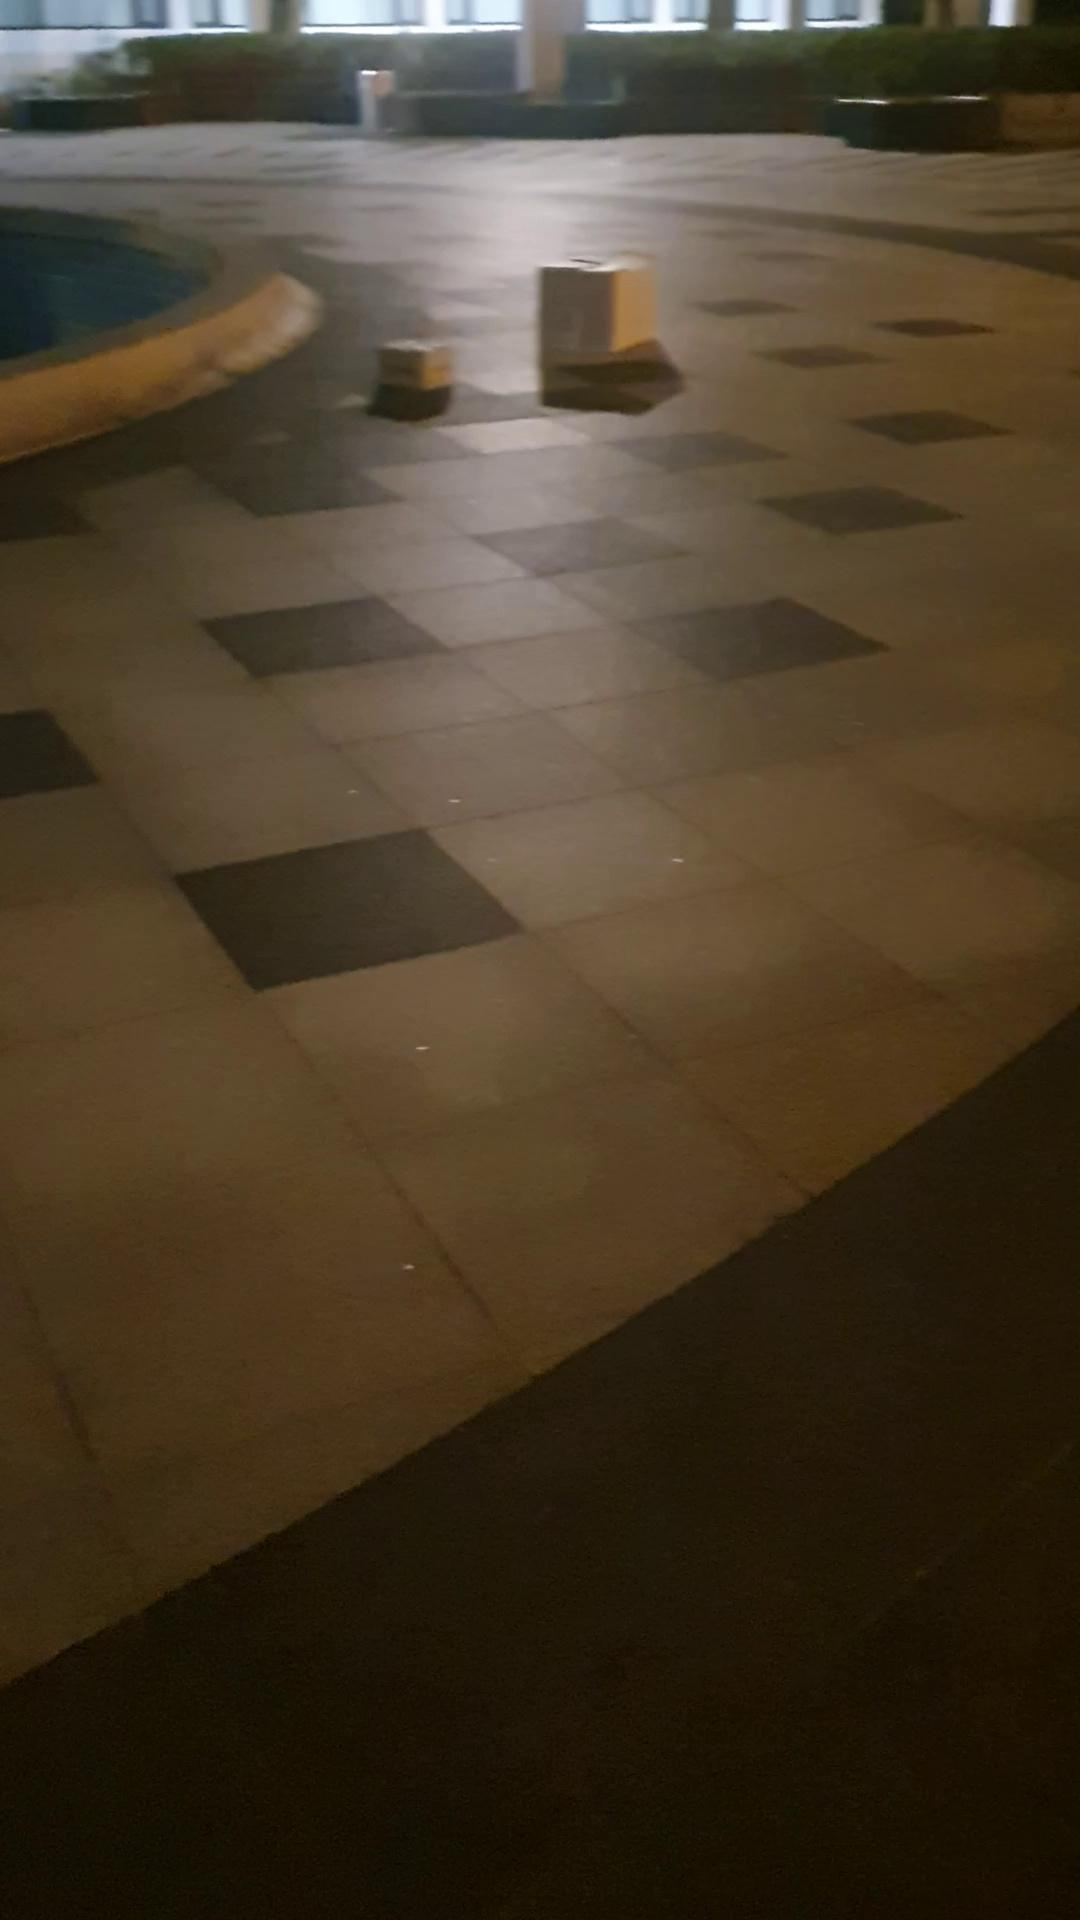Box: (527, 248, 657, 377), (367, 338, 458, 407)
